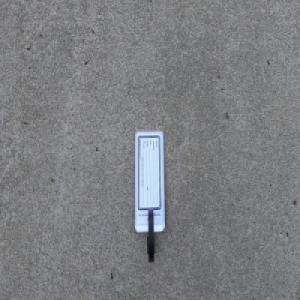LuggageTag: (132, 129, 166, 264)
